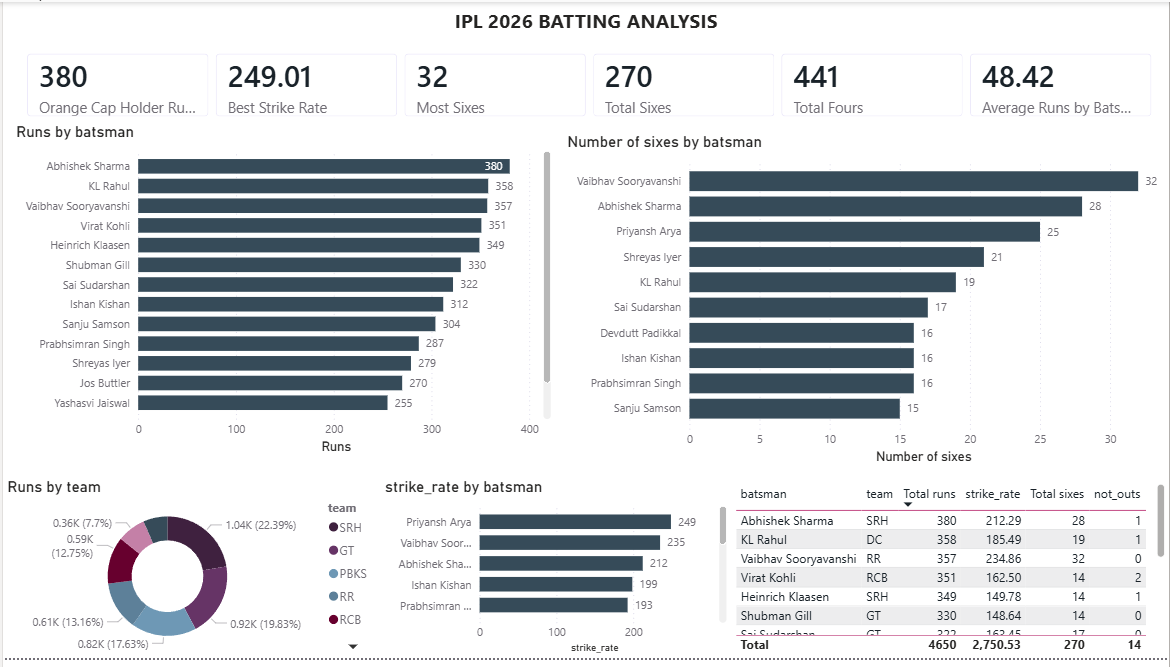

What the dashboard file says about the page in this screenshot:
{"tool":"powerbi","page":{"name":"Batting Analysis","canvas":[1280,720],"ordinal":1},"visuals":[{"type":"cardVisual","fields":{"Data":["_Measures2.Orange Cap Holder","_Measures2.Best Strike Rate","_Measures2.Most Sixes","_Measures2.Total Fifties","_Measures2.Total Centuries","_Measures2.Total Sixes","_Measures2.Total Fours"]},"box":[9.8,39.1,1270.5,103.9],"z":0},{"type":"clusteredBarChart","fields":{"Category":["batting_stats.batsman"],"Y":["Sum(batting_stats.runs)"]},"box":[9.6,131.7,596.9,369.1],"z":1000},{"type":"barChart","fields":{"Category":["batting_stats.batsman"],"Y":["Sum(batting_stats.sixes)"]},"box":[614.8,142.7,665.5,369.1],"z":2000},{"type":"clusteredBarChart","fields":{"Category":["batting_stats.team"],"Y":["Sum(batting_stats.runs)"]},"box":[0,521.4,414.4,199],"z":3000},{"type":"tableEx","fields":{"Values":["batting_stats.batsman","batting_stats.team","Sum(batting_stats.runs)","Sum(batting_stats.strike_rate)","Sum(batting_stats.sixes)","Sum(batting_stats.not_outs)"]},"box":[798.6,524.2,481.6,196.2],"z":4000},{"type":"barChart","fields":{"Category":["batting_stats.batsman"],"Y":["Sum(batting_stats.strike_rate)"]},"box":[414,521,385,199],"z":5000},{"type":"textbox","box":[0,0,1280.3,39.1],"z":6000},{"type":"pieChart","title":"Boundary Distribution","fields":{"Y":["_Measures2.Total Fours","_Measures2.Total Sixes"]},"box":[1056.6,317,223.7,150.9],"z":7000},{"type":"actionButton","box":[0,0,145,40],"z":7001},{"type":"actionButton","box":[1180,0,100,40],"z":7002}]}

Visuals, with their boxes in screenshot pixels (x1, y1, x2, y2), scaled from the page's 1280x720 canvas onto the 1170x667 screenshot:
cardVisual - _Measures2.Orange Cap Holder x _Measures2.Best Strike Rate: 9:36:1169:132
clusteredBarChart - batting_stats.batsman x Sum(batting_stats.runs): 9:122:554:464
barChart - batting_stats.batsman x Sum(batting_stats.sixes): 562:132:1169:474
clusteredBarChart - batting_stats.team x Sum(batting_stats.runs): 0:483:379:666
tableEx - batting_stats.batsman x batting_stats.team: 730:486:1169:666
barChart - batting_stats.batsman x Sum(batting_stats.strike_rate): 378:483:730:666
textbox: 0:0:1169:36
"Boundary Distribution" pieChart: 966:294:1169:433
actionButton: 0:0:133:37
actionButton: 1079:0:1169:37
